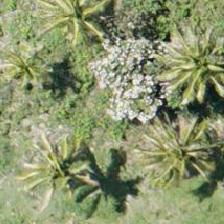coconut_tree: (3, 124, 93, 214), (144, 99, 223, 189), (154, 21, 223, 111), (42, 0, 132, 48)
